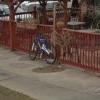Bicycle: (25, 27, 59, 65)
